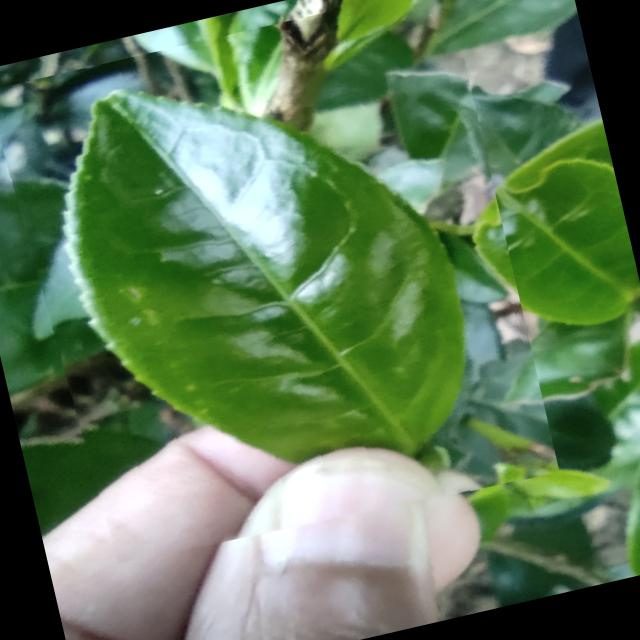Category C(4-7 days): (0, 0, 559, 578)
